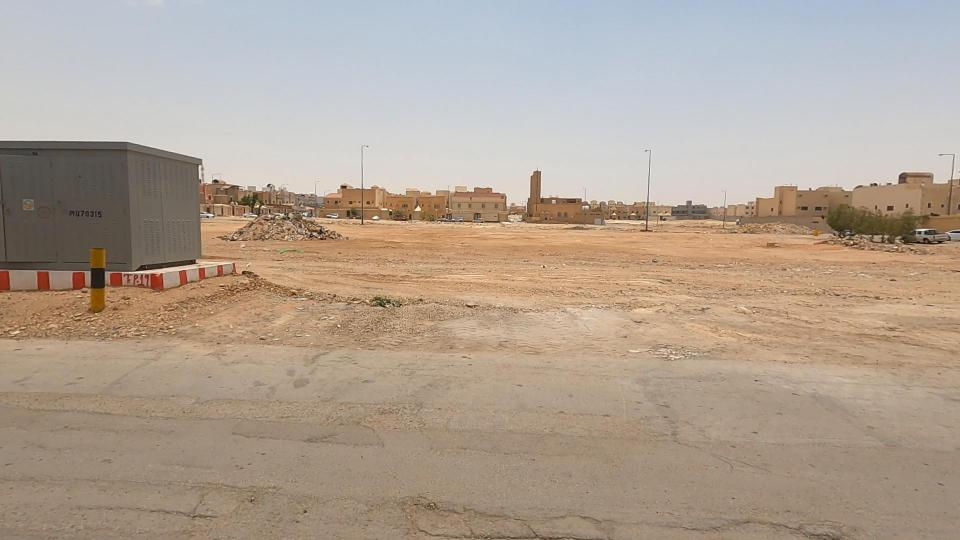GARBAGE: (267, 199, 358, 252), (226, 198, 300, 260)
